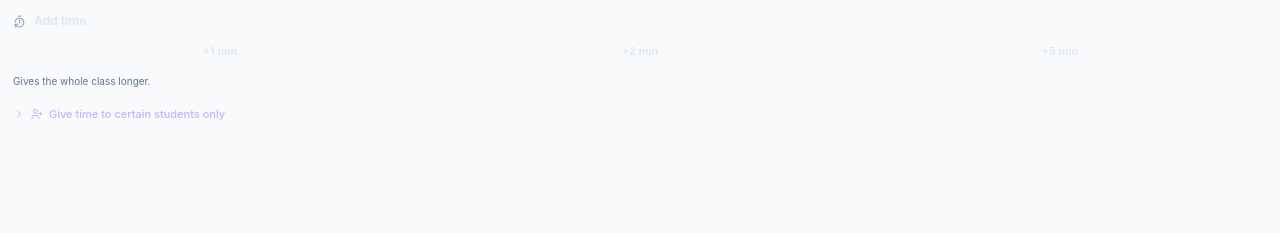
Scenario: QuizTimeControls › marks a student who already has extra time
Click the button "Give time to certain students only": (137, 114) [13,96,1267,122]
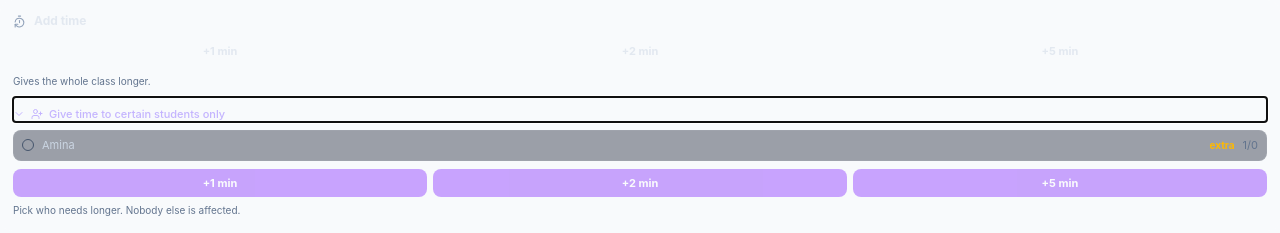
Check: the text "extra" is shown, box [1210,138,1235,153]
